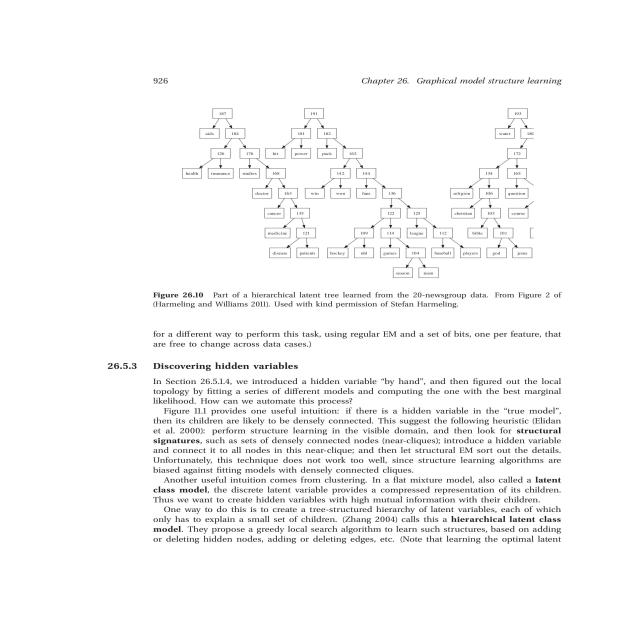diagram: (128, 97, 614, 323)
